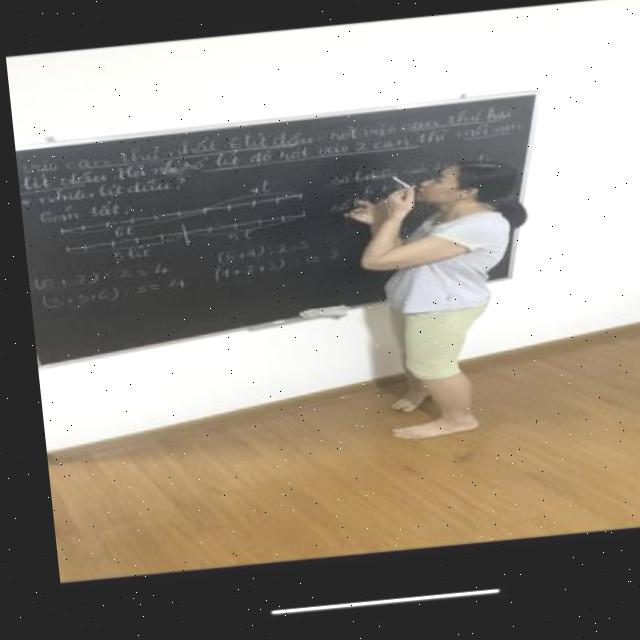cigarette: (385, 182, 406, 197)
